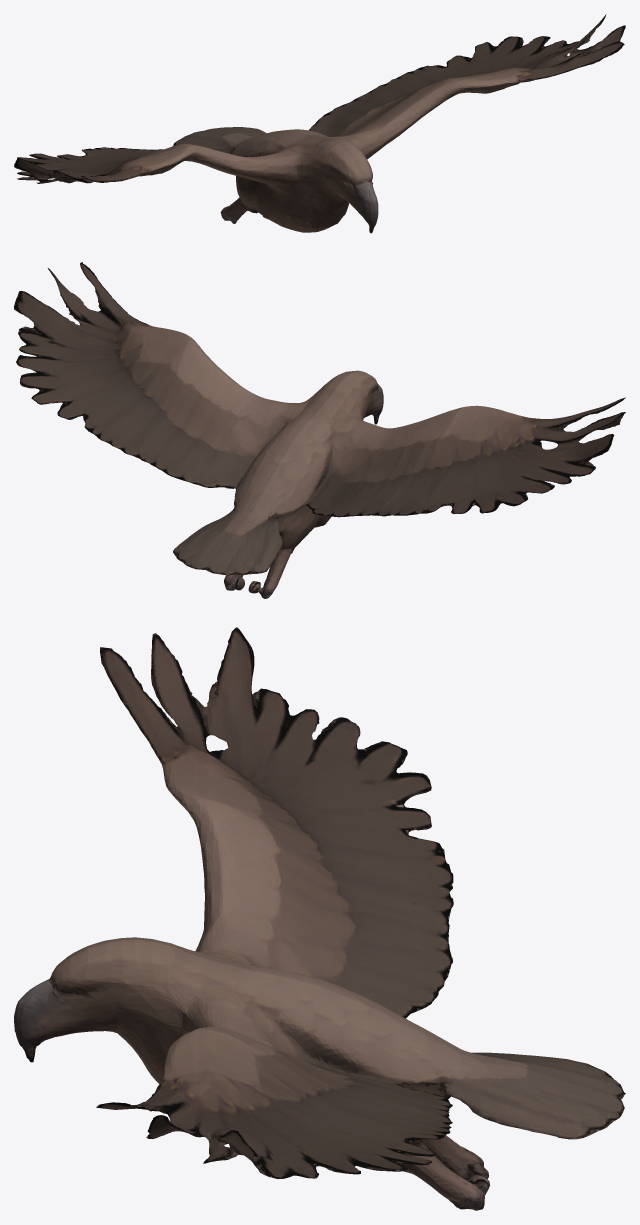
The picture shows the model from 3 angles, top to bottom: view 1: azimuth 30°, elevation 25°; view 2: azimuth 150°, elevation 25°; view 3: azimuth 270°, elevation 25°; orthographic projection. The views are drawn at different scales.
Parts seen in each view (by area): view 1: world; view 2: world; view 3: world.
Part boxes in pixels (bbox=[...]): world: bbox=[14, 14, 625, 233]; world: bbox=[14, 262, 625, 598]; world: bbox=[14, 627, 625, 1210].
Bounding box in the file's own units: 0.9988 × 0.302 × 0.5119.
Materials: 1 (1 with a texture image).
